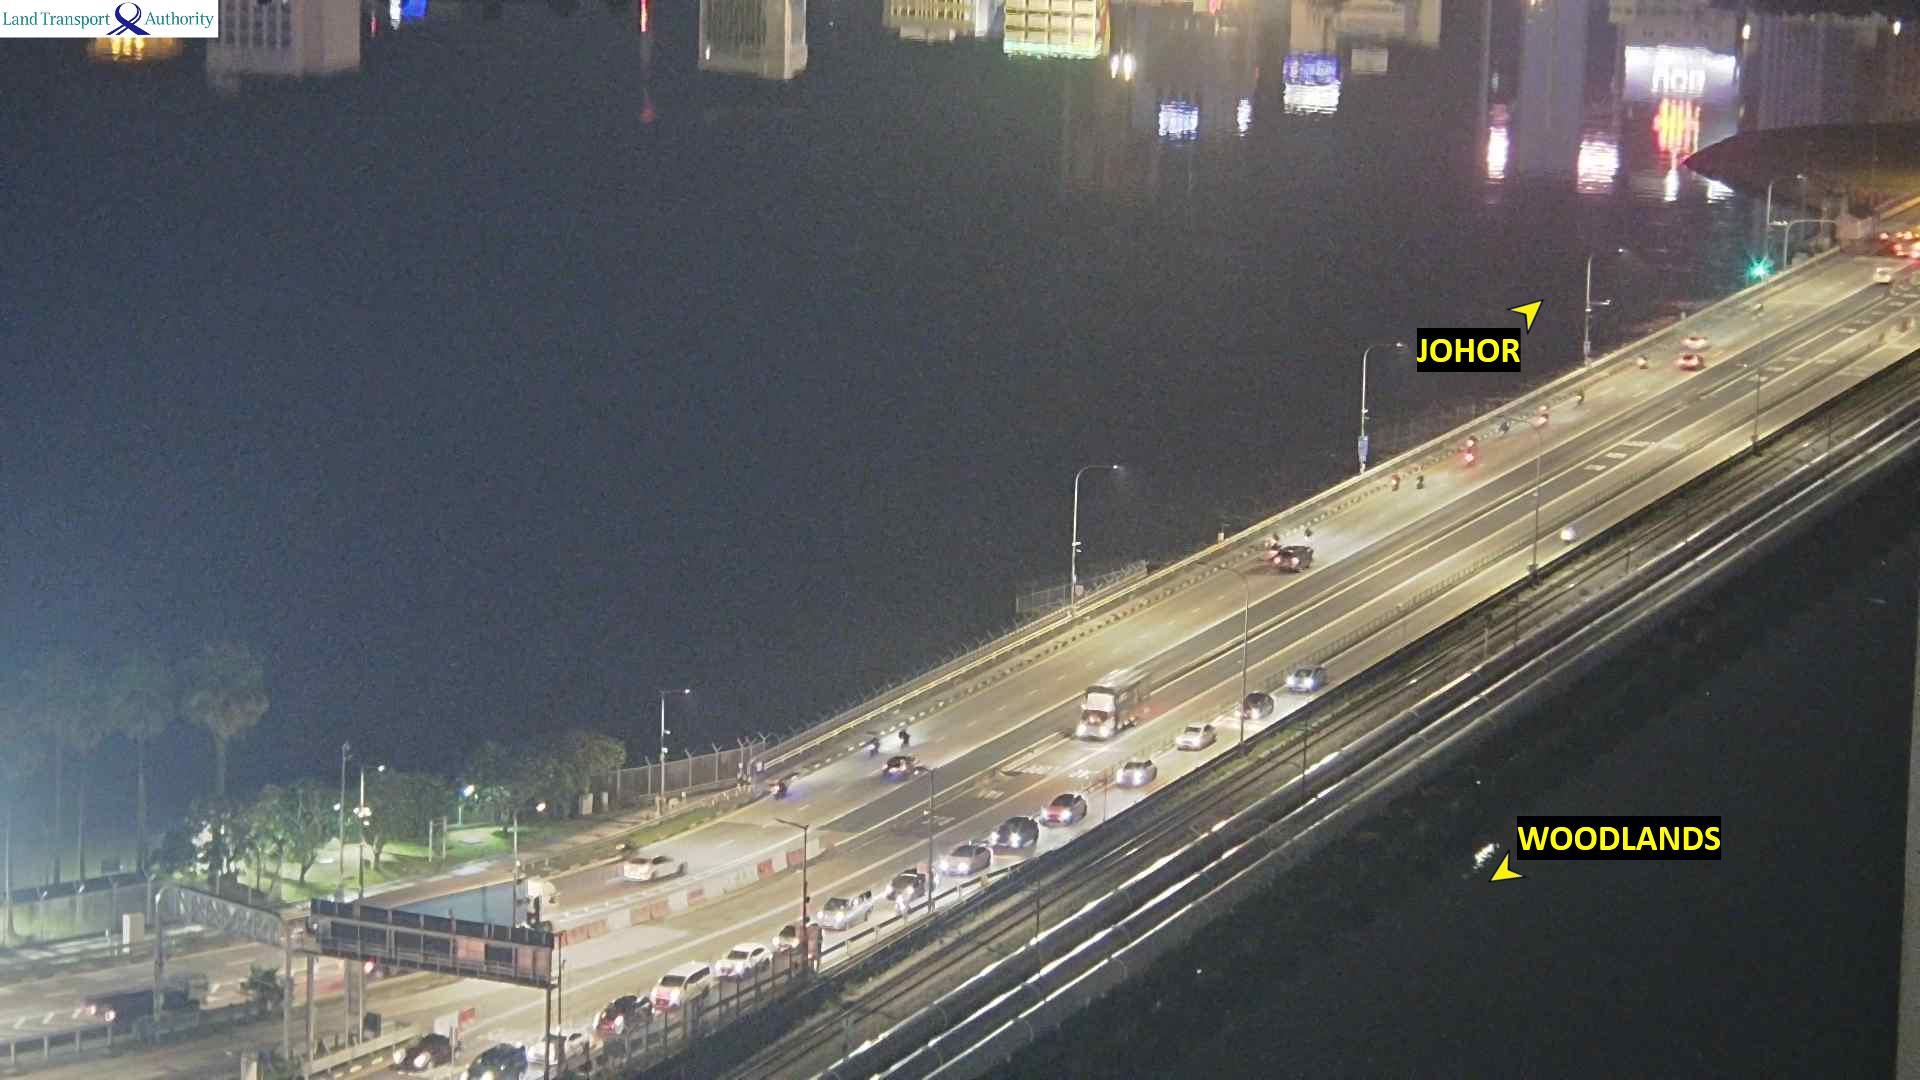vehicle-causeway-johor: (359, 869, 556, 908), (88, 963, 210, 1020), (617, 857, 689, 886), (1277, 546, 1312, 571), (885, 756, 919, 780), (1682, 335, 1707, 352), (1676, 354, 1702, 369), (1462, 437, 1476, 462), (770, 780, 787, 798), (1874, 268, 1890, 282), (1388, 474, 1399, 493), (1635, 356, 1650, 369), (1574, 392, 1584, 409), (902, 728, 910, 742), (1501, 418, 1508, 433), (867, 736, 875, 749), (1303, 528, 1310, 541), (1417, 476, 1425, 485)
vehicle-causeway-singapore: (1077, 665, 1153, 735), (458, 1037, 524, 1080), (391, 1024, 452, 1069), (816, 884, 871, 930), (598, 987, 647, 1033), (533, 1023, 590, 1061), (713, 945, 772, 977), (651, 964, 710, 990), (773, 919, 817, 953), (1040, 795, 1087, 826), (995, 818, 1042, 848), (1173, 722, 1220, 752), (943, 842, 990, 871), (1114, 757, 1159, 786), (889, 866, 932, 895), (1287, 663, 1329, 692), (1235, 694, 1272, 718), (1562, 527, 1577, 541)
